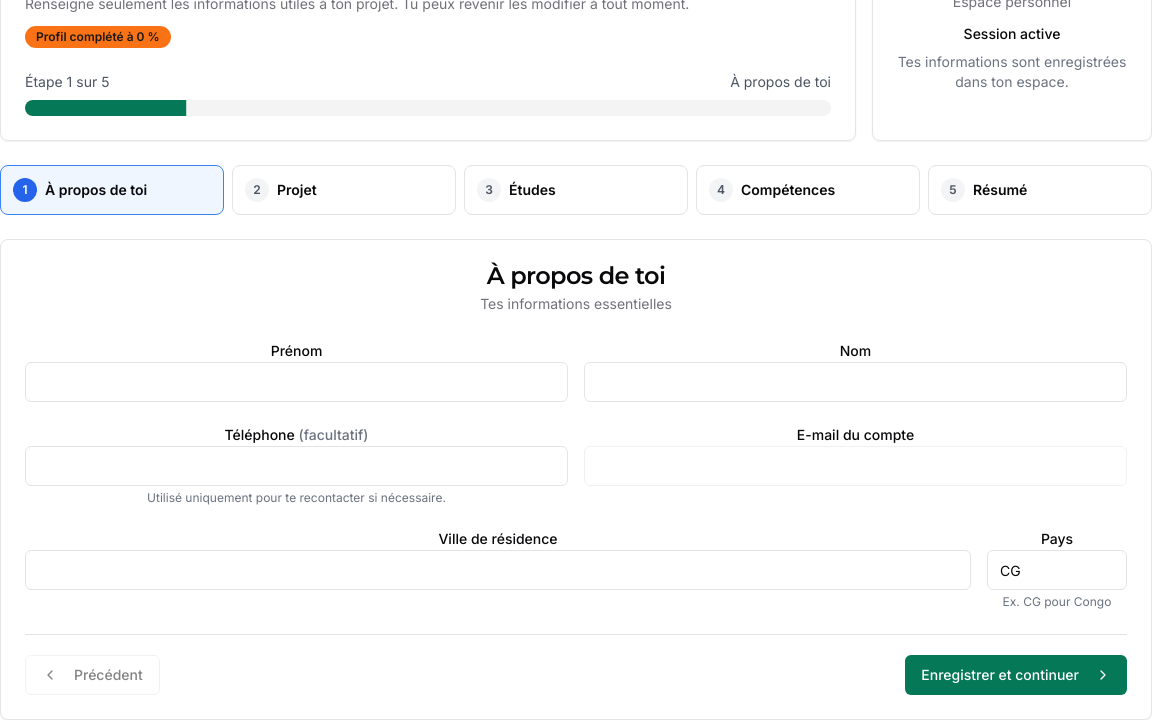
Test: AdaptiveProfileWizard — issue #153, suppression réversible avec Annuler › retire une compétence immédiatement puis la restaure via le bouton Annuler du toast
(page scrolled)
Click the button "Enregistrer et continuer".
click(1016, 675)  # box [905,655,1127,695]
(page scrolled)
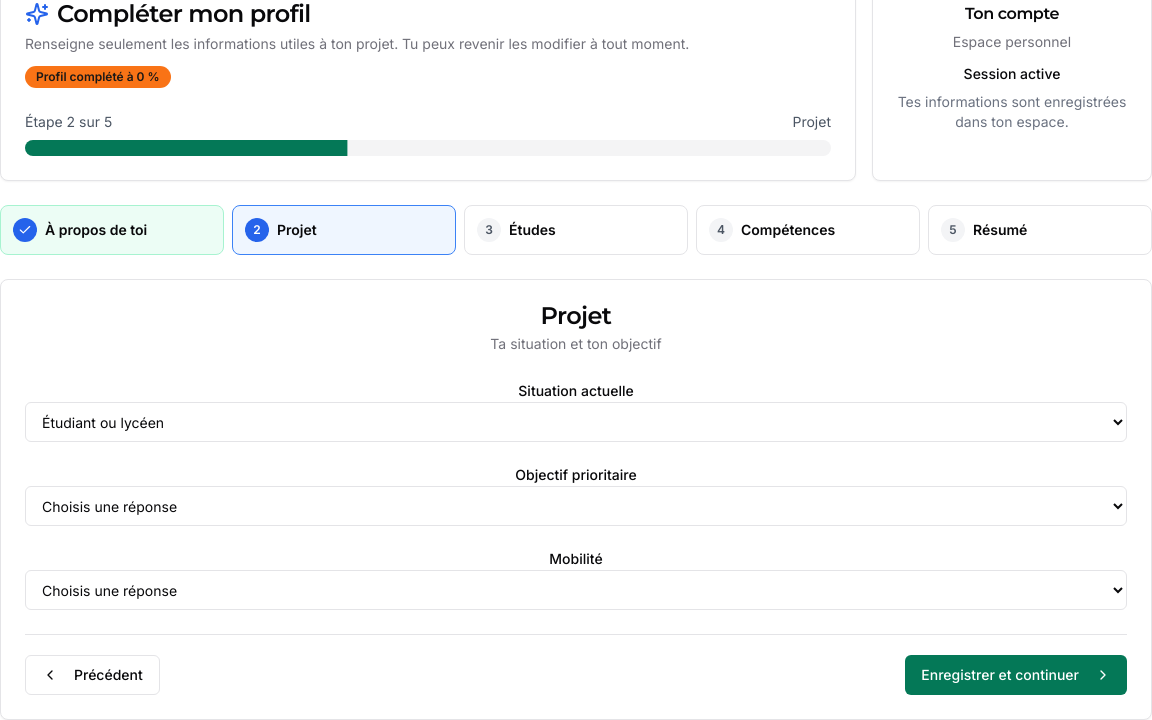
Click the button "Enregistrer et continuer".
click(1016, 675)  # box [905,655,1127,695]
(page scrolled)
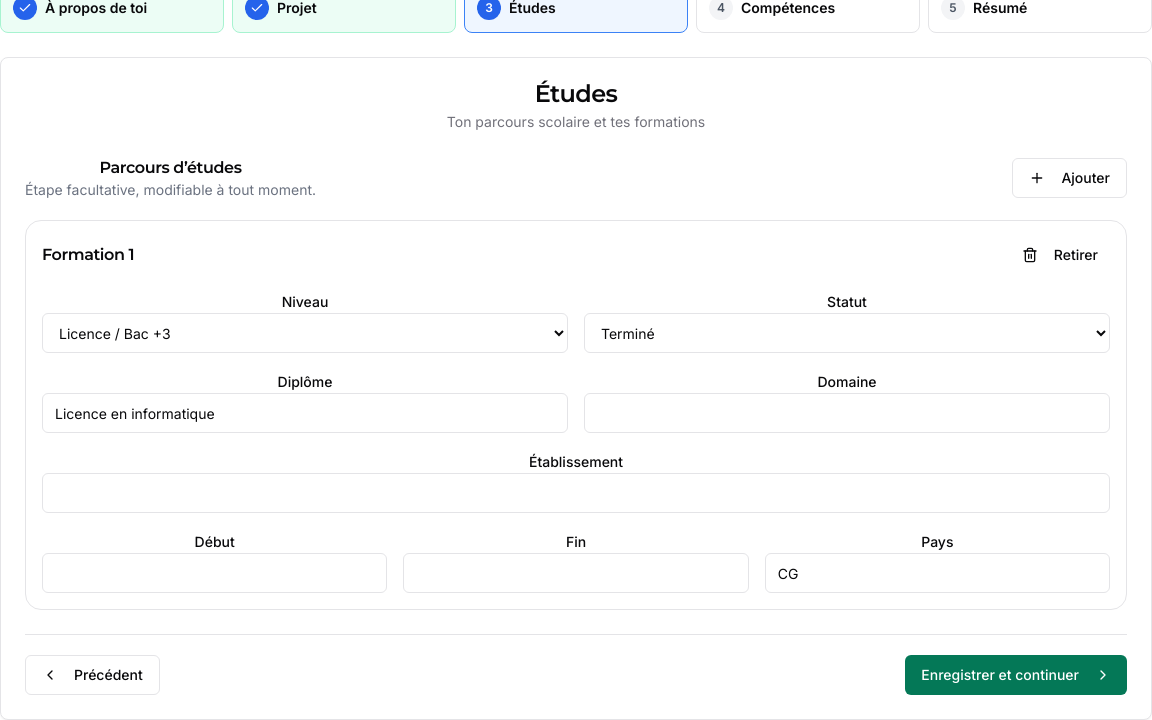
Click the button "Enregistrer et continuer".
click(1016, 675)  # box [905,655,1127,695]
(page scrolled)
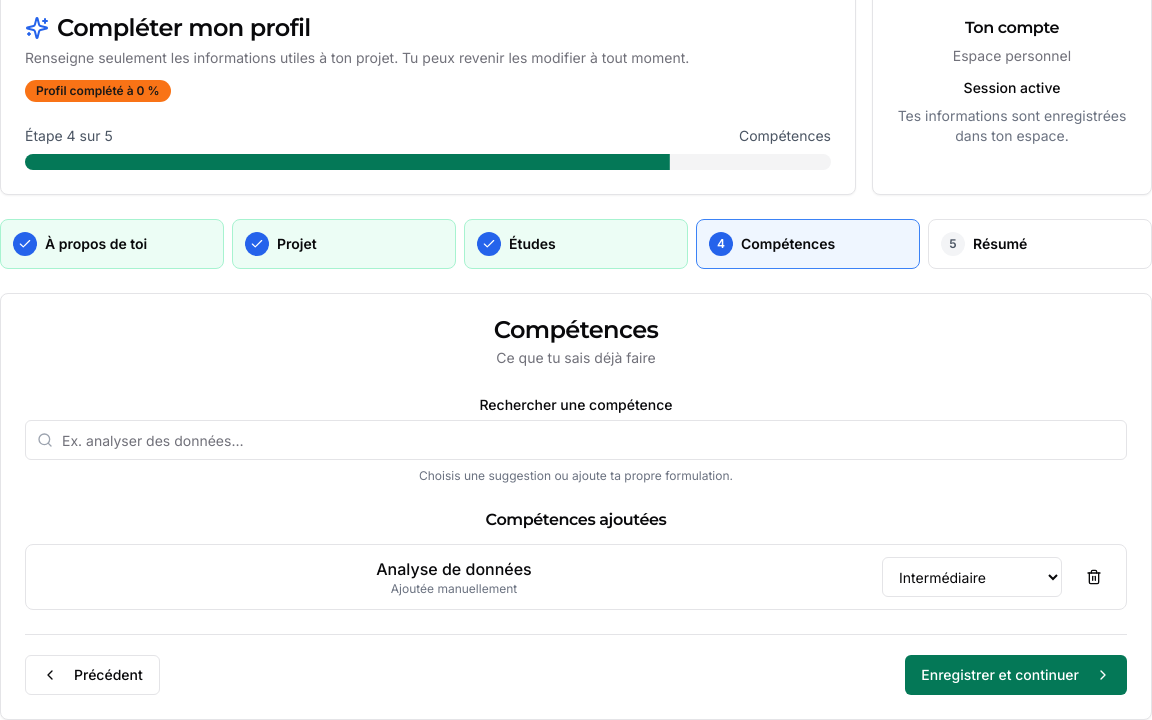
Expected: the text "Étape 4 sur 5" is shown, [25,126,113,146]
Expected: the heading "Compétences" is shown, [494,315,658,344]
Expected: the text "Analyse de données" is shown, [376,559,532,579]
Click the button named "retirer analyse de données".
click(1094, 577)  # box [1074,557,1114,597]
(page scrolled)
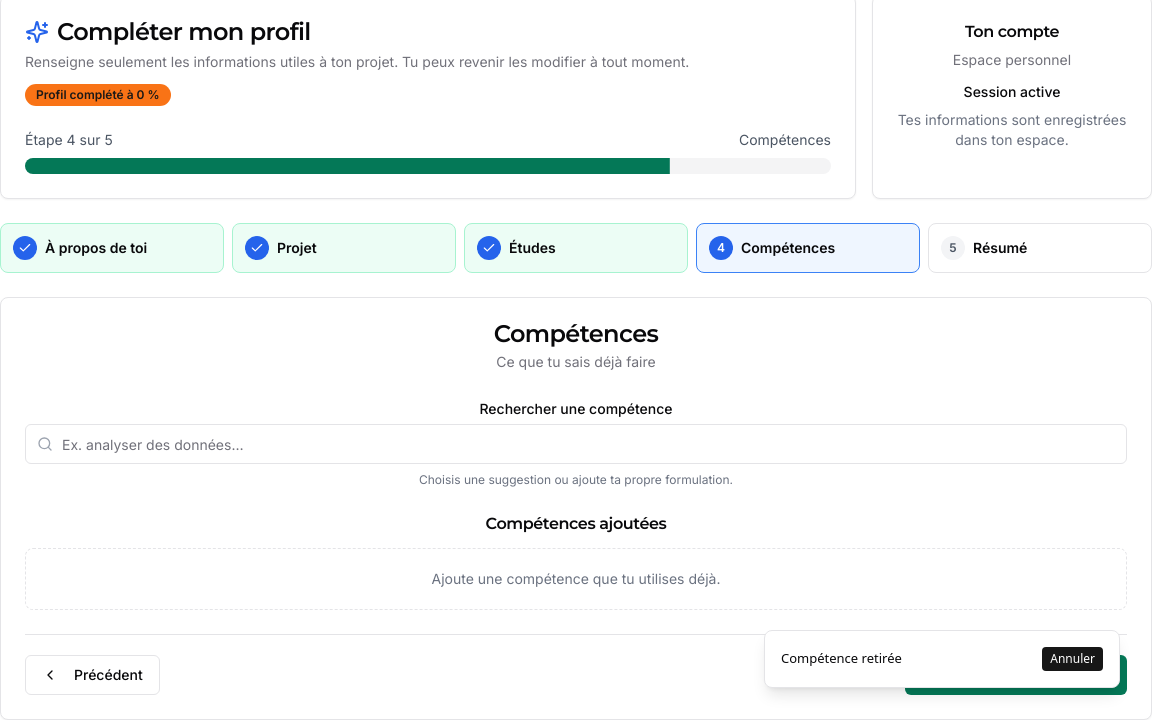
Expected: the text "Analyse de données" is gone
Click the button "Annuler".
click(1073, 659)  # box [1042,647,1103,671]
(page scrolled)
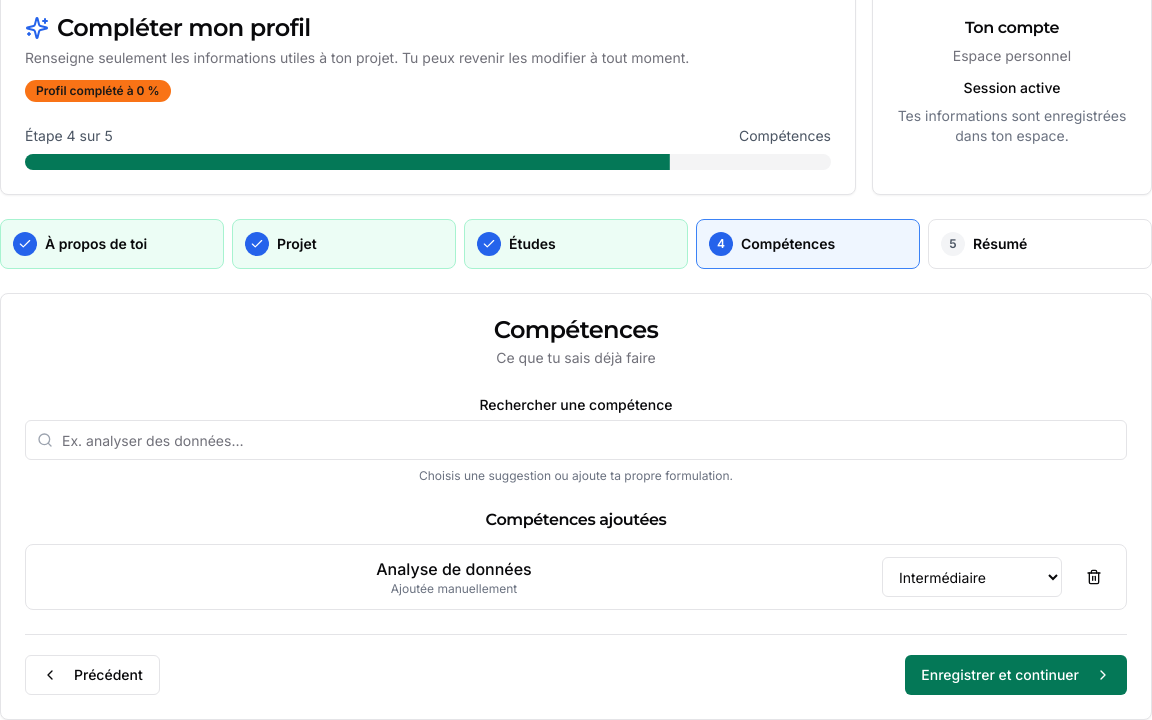
Expected: the text "Analyse de données" is shown, [376,559,532,579]
